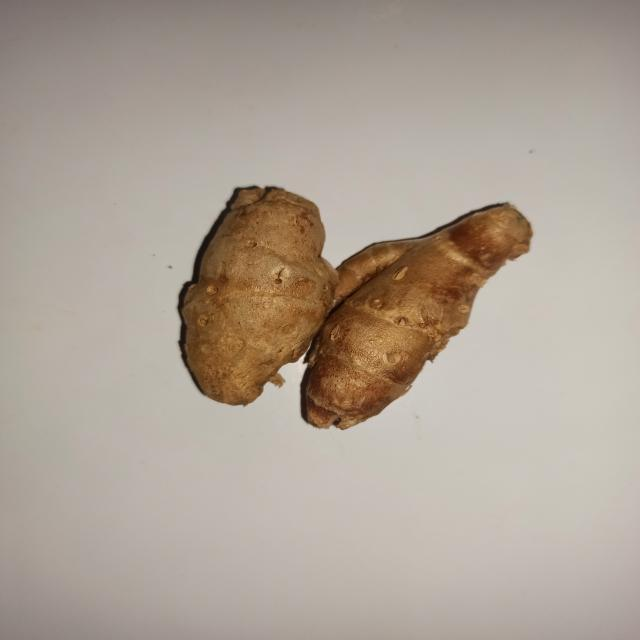ginger: (185, 176, 522, 426)
